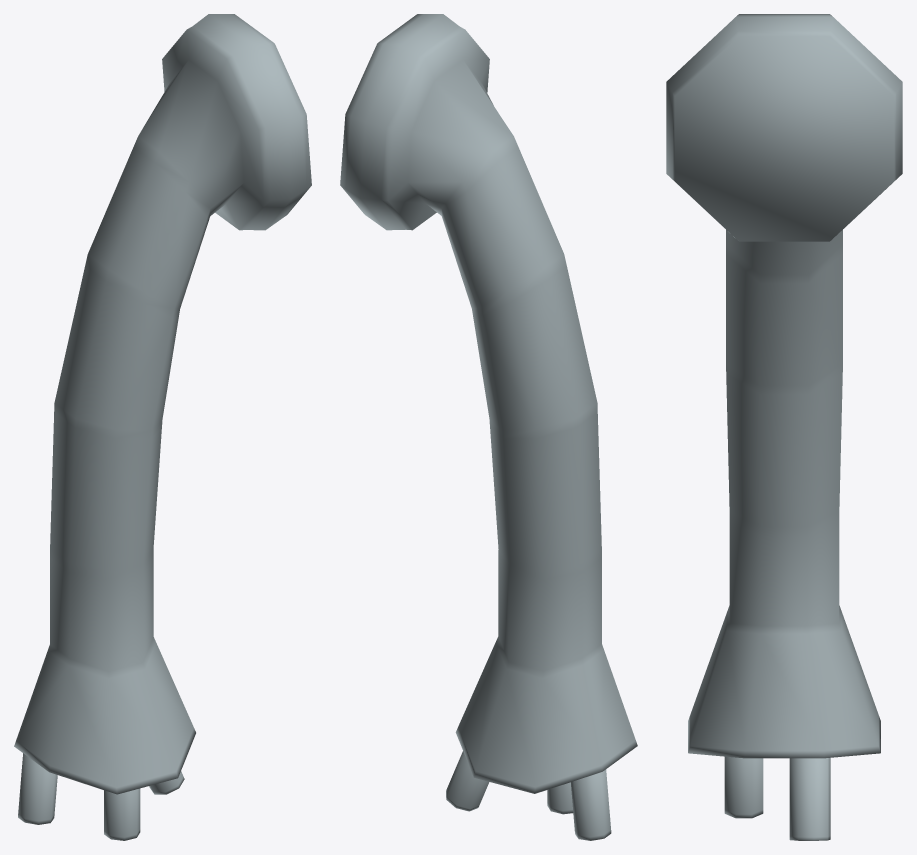
The model's file is brazoDerecho.obj.
3 views of the same model, side by side, from view 1: azimuth 30°, elevation 25°; view 2: azimuth 150°, elevation 25°; view 3: azimuth 270°, elevation 25° (orthographic). The views are drawn at different scales.
Parts seen in each view (by area): view 1: Cylinder_002, Cylinder_003; view 2: Cylinder_002, Cylinder_003; view 3: Cylinder_002, Cylinder_003.
Part boxes in pixels (x1,y1,x2,y2): Cylinder_002: (14, 14, 311, 794); Cylinder_003: (18, 753, 184, 840); Cylinder_002: (340, 14, 637, 793); Cylinder_003: (446, 751, 611, 840); Cylinder_002: (666, 14, 902, 758); Cylinder_003: (724, 756, 830, 840).
Size of the model in its own units: 1.13 by 3.48 by 0.8653.
